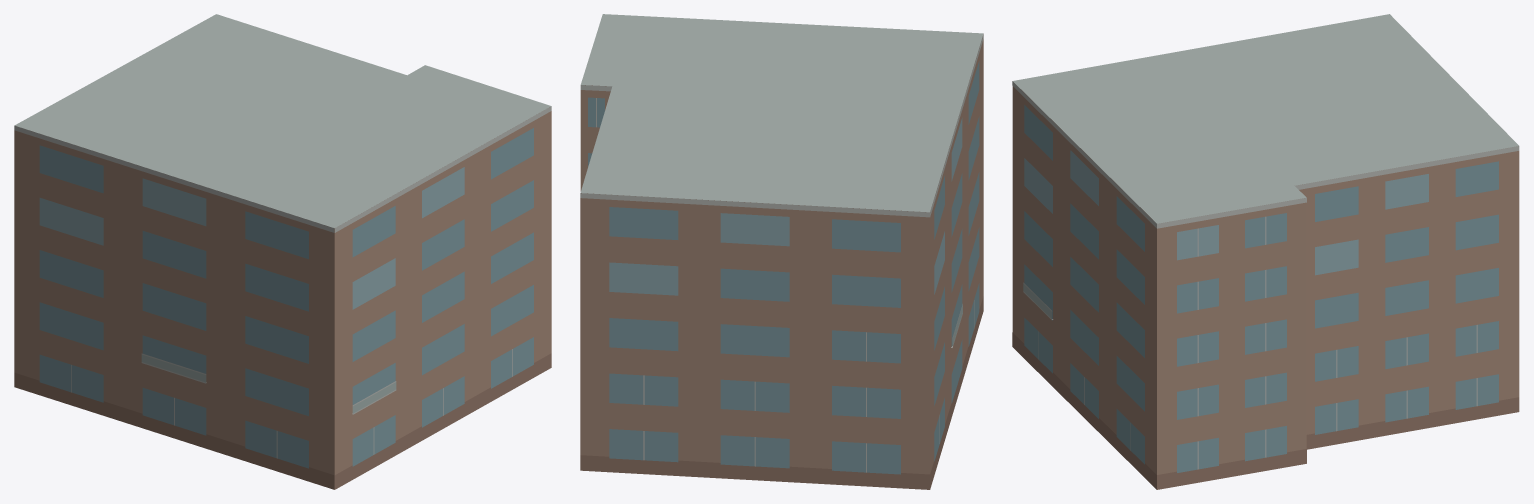
Rendered from survey-upis-32549027.glb.
3 views of the same model, side by side, from view 1: azimuth 30°, elevation 25°; view 2: azimuth 150°, elevation 25°; view 3: azimuth 270°, elevation 25° (orthographic). The views are drawn at different scales.
Parts seen in each view (by area): view 1: survey-upis-32549027.tmp; view 2: survey-upis-32549027.tmp; view 3: survey-upis-32549027.tmp.
Part boxes in pixels (box(x1,y1,x2,y2)): survey-upis-32549027.tmp: box(14, 14, 551, 489); survey-upis-32549027.tmp: box(580, 14, 983, 489); survey-upis-32549027.tmp: box(1012, 14, 1519, 489).
Size of the model in its own units: 22.68 by 13.4 by 23.14.
